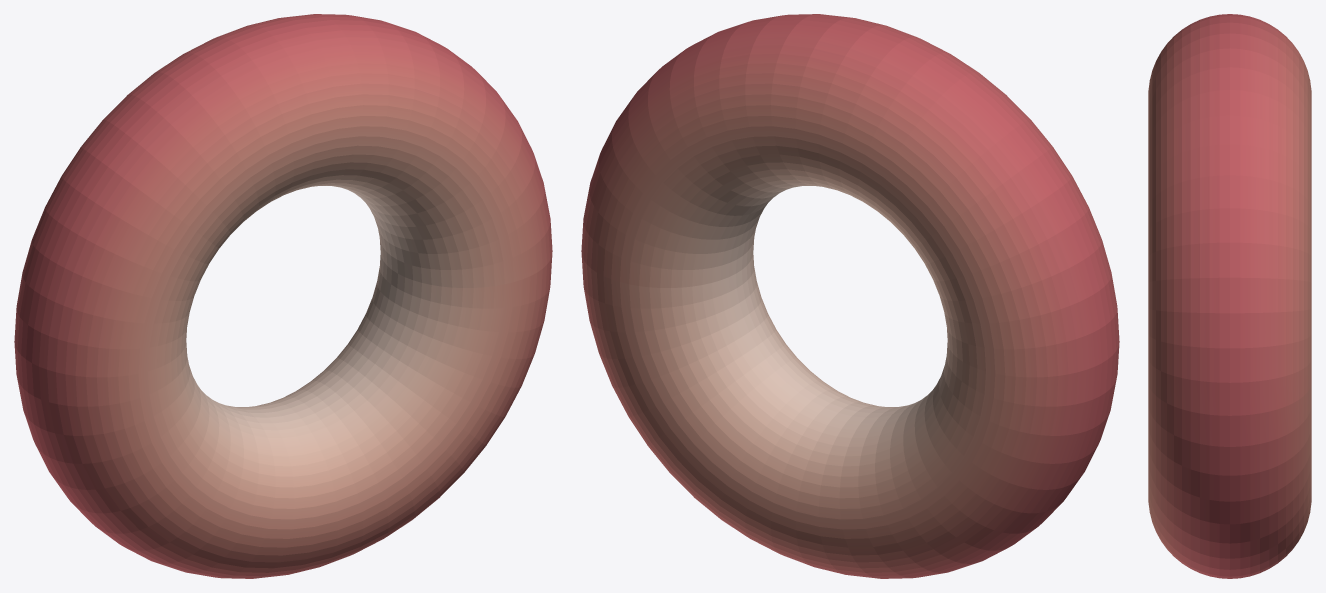
The picture shows the model from 3 angles, left to right: view 1: azimuth 30°, elevation 25°; view 2: azimuth 150°, elevation 25°; view 3: azimuth 270°, elevation 25°; orthographic projection. The views are drawn at different scales.
Parts seen in each view (by area): view 1: world; view 2: world; view 3: world.
Part boxes in pixels (left/top/right/bottom): world: left=14, top=14, right=552, bottom=578; world: left=581, top=14, right=1119, bottom=578; world: left=1148, top=14, right=1311, bottom=578.
Bounding box in the file's own units: 28.13 × 28.08 × 8.12.
